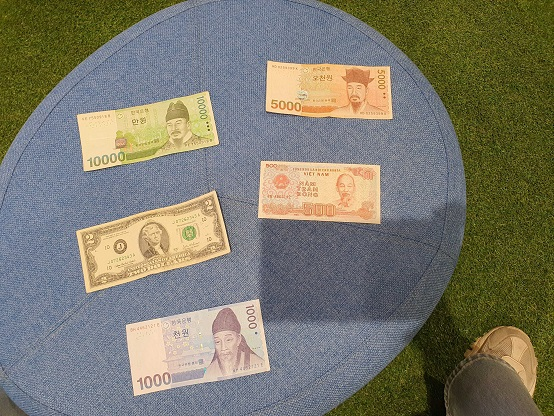10000won: (76, 90, 219, 173)
1000won: (126, 300, 271, 396)
2dollar: (77, 190, 232, 294)
5000won: (264, 60, 392, 121)
500vnd: (257, 159, 381, 223)
